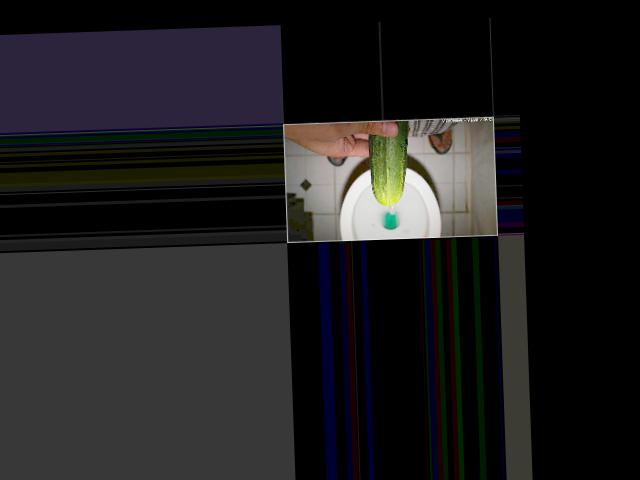cucumber: (368, 118, 411, 205)
